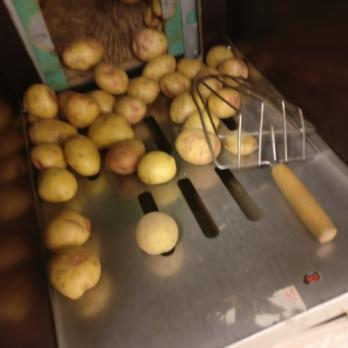Floury potato: (192, 40, 247, 148), (135, 211, 177, 257)
Sweet potato: (22, 82, 101, 303), (99, 60, 189, 179), (62, 35, 107, 73), (130, 25, 169, 59)
